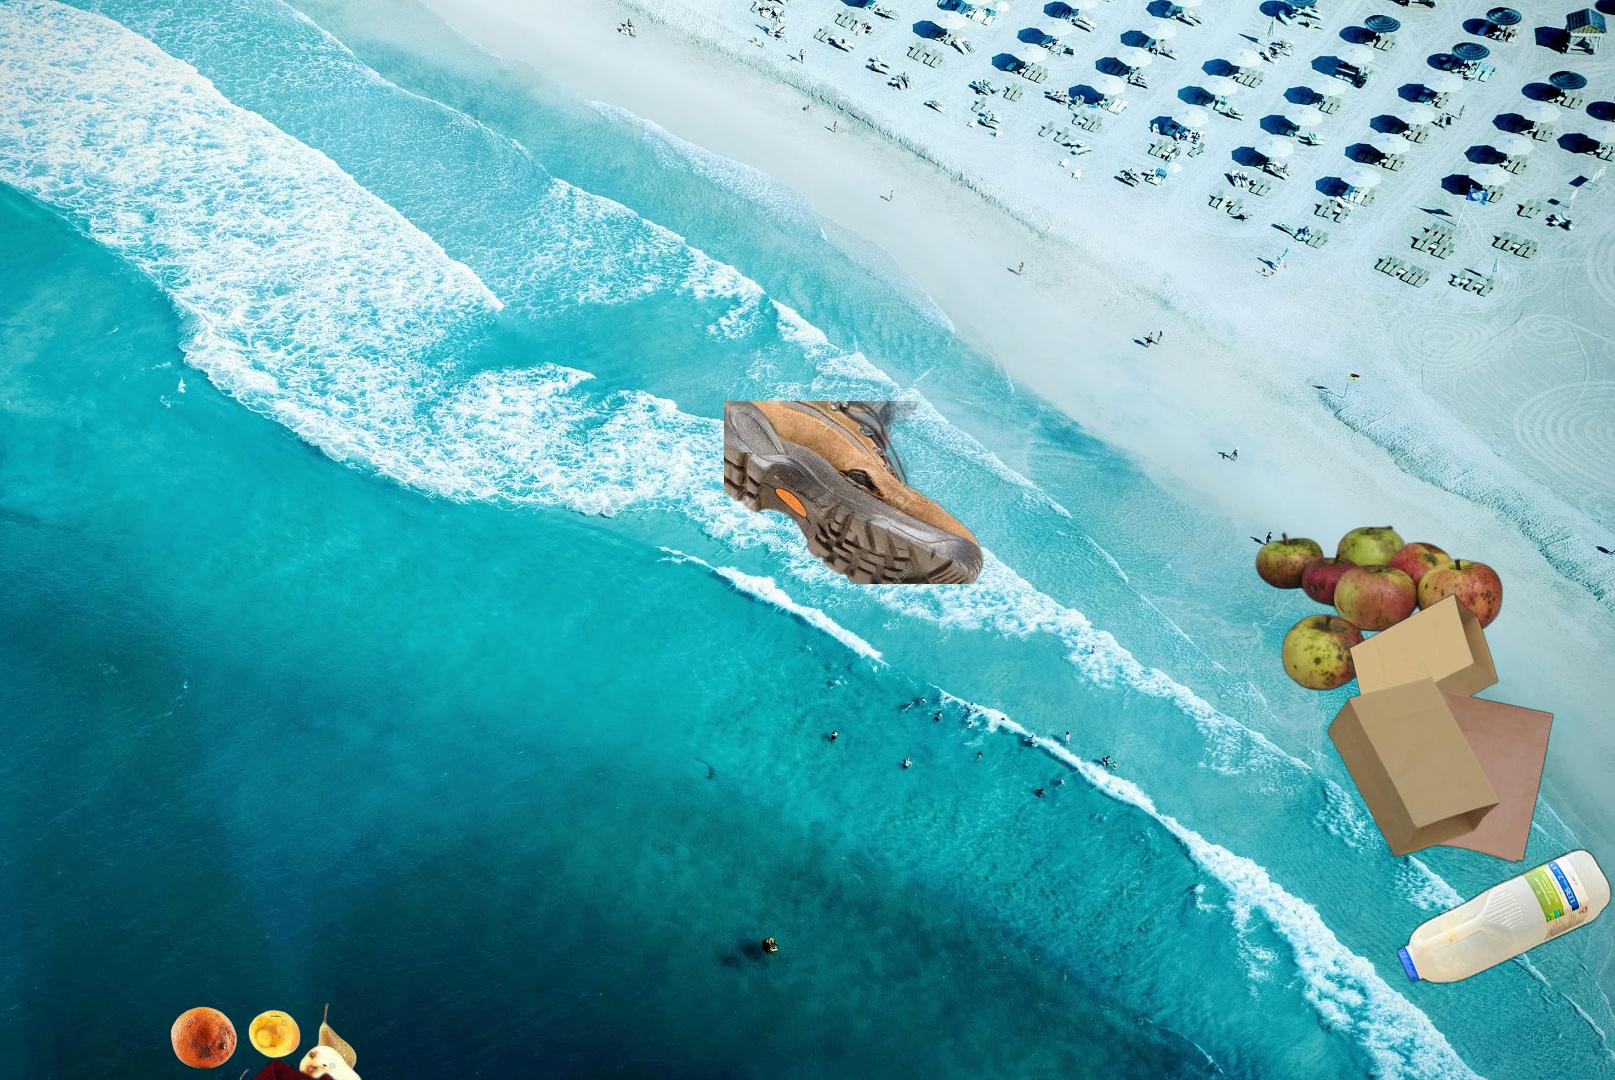biological: (1253, 523, 1505, 693), (168, 1002, 379, 1080)
clothes: (87, 1060, 487, 1080)
paper-bag: (1326, 590, 1556, 866)
plastic-bottles: (1392, 843, 1615, 989)
shoes: (724, 401, 986, 584)
